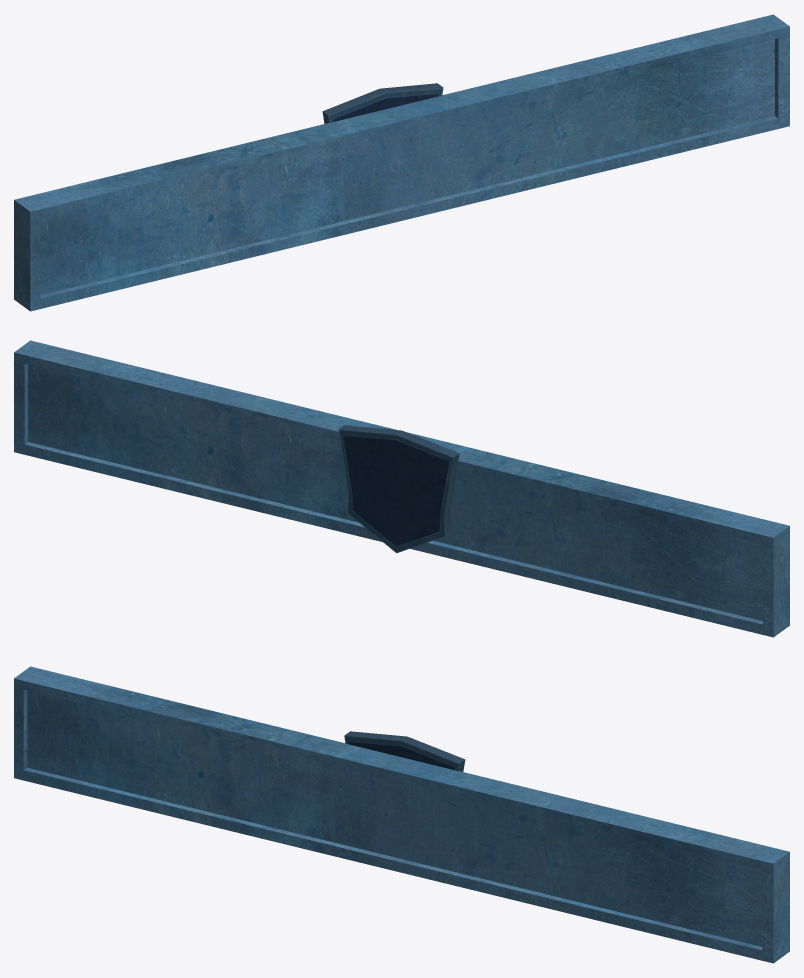
Rendered from Building_Pz01.glb.
3 renders of one model, top to bottom at view 1: azimuth 30°, elevation 25°; view 2: azimuth 150°, elevation 25°; view 3: azimuth 330°, elevation 25°, orthographic.
Parts seen in each view (by area): view 1: xiutz_pz01; view 2: xiutz_pz01; view 3: xiutz_pz01.
Boxes of the visible parts, x1=… form: xiutz_pz01: x1=14, y1=14, x2=789, y2=311; xiutz_pz01: x1=14, y1=340, x2=789, y2=637; xiutz_pz01: x1=14, y1=666, x2=789, y2=963.
Bounding box in the file's own units: 25.88 × 3.85 × 1.3.
Materials: 1 (1 with a texture image).
